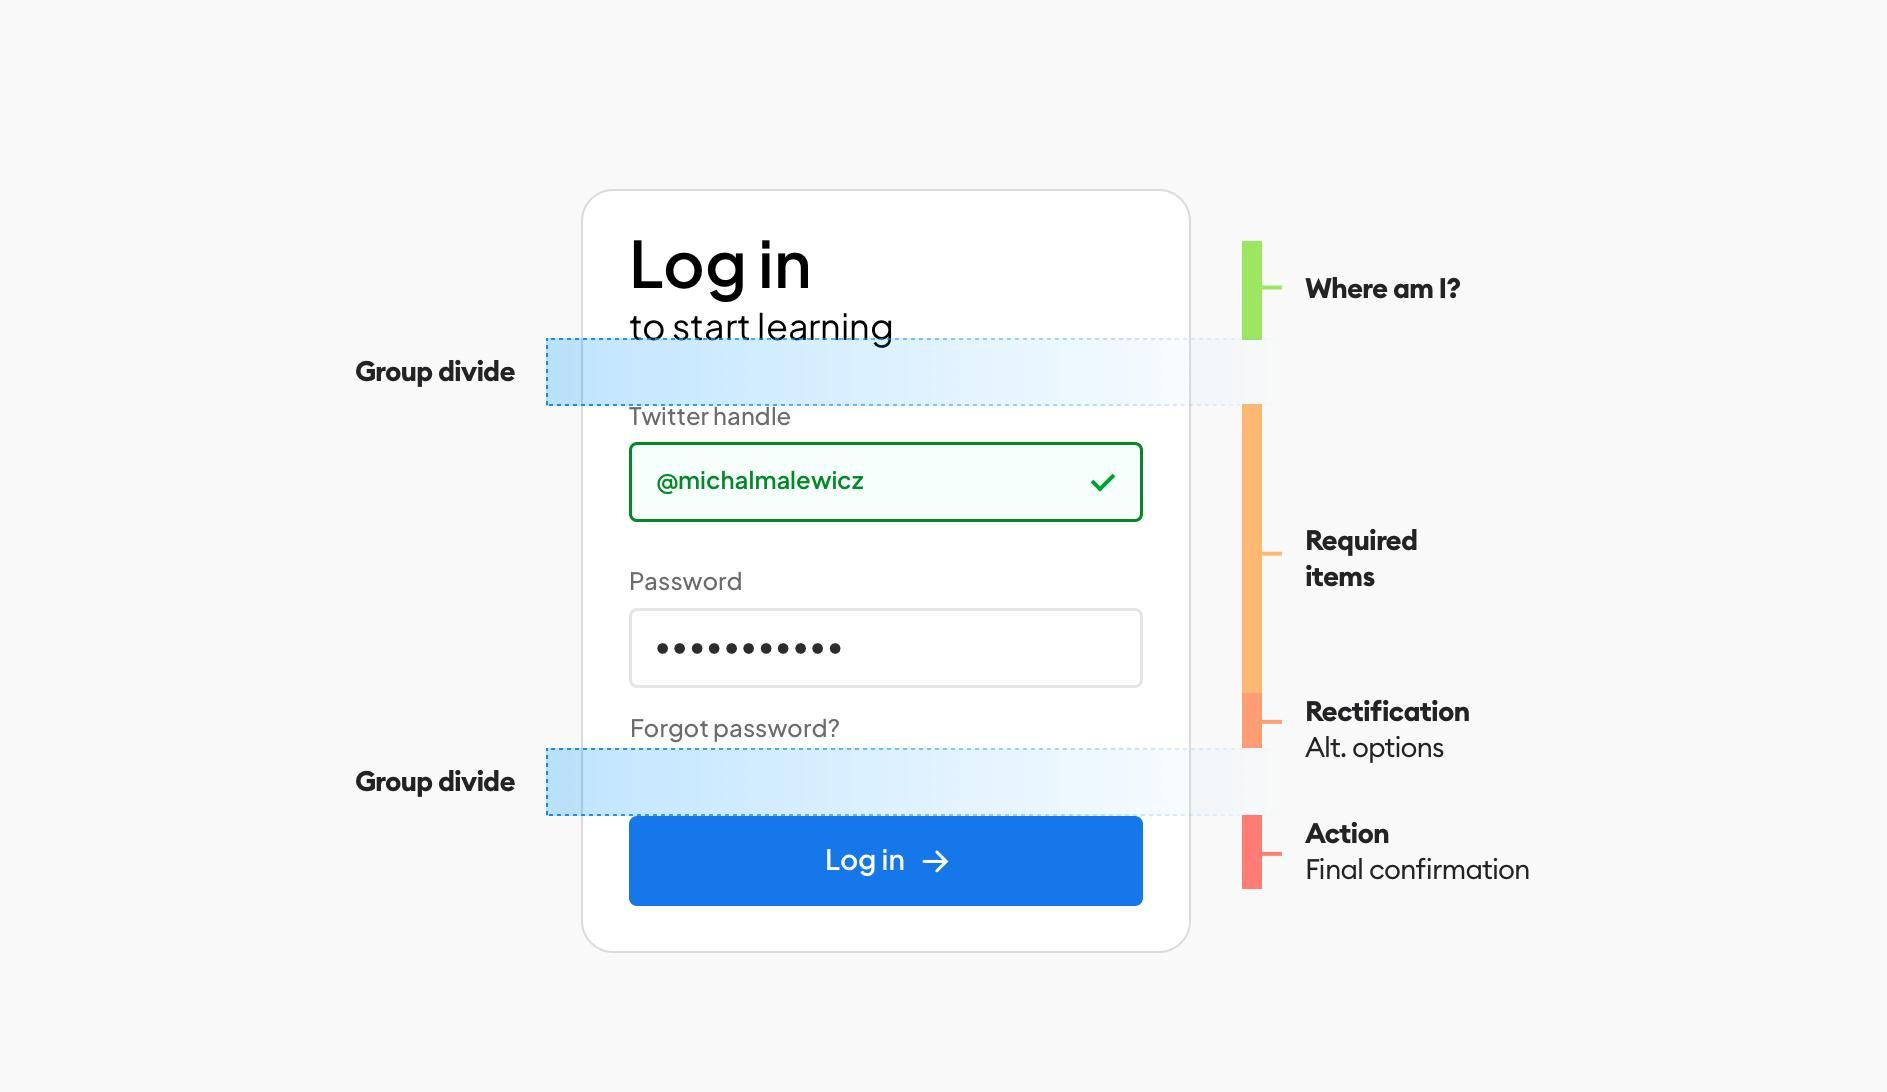button: (632, 816, 1145, 905)
input: (634, 442, 1142, 521), (632, 610, 1144, 685)
label: (623, 237, 823, 302), (630, 718, 849, 747), (632, 404, 794, 432), (621, 565, 752, 598)
